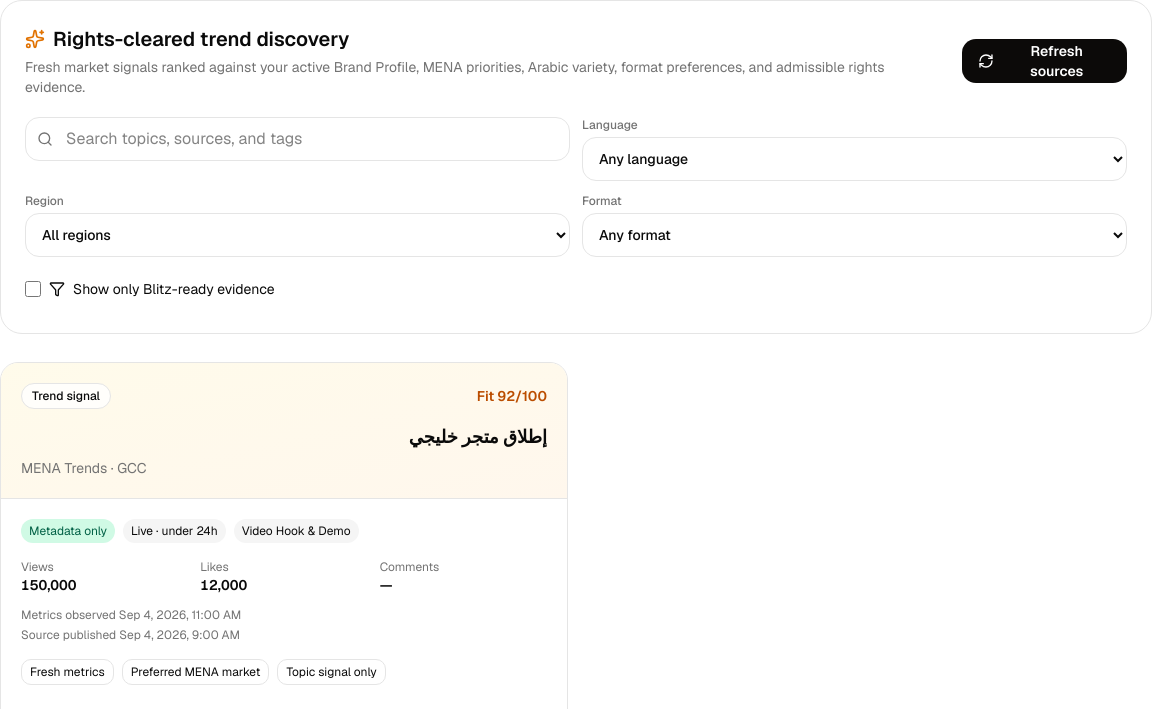
Test: Inspiration trend discovery › filters the discovery feed without mutating durable records
Type "missing" into the field with placeholder "Search topics, sources, and tags". click: (298, 139)
box: [25,117,570,161]
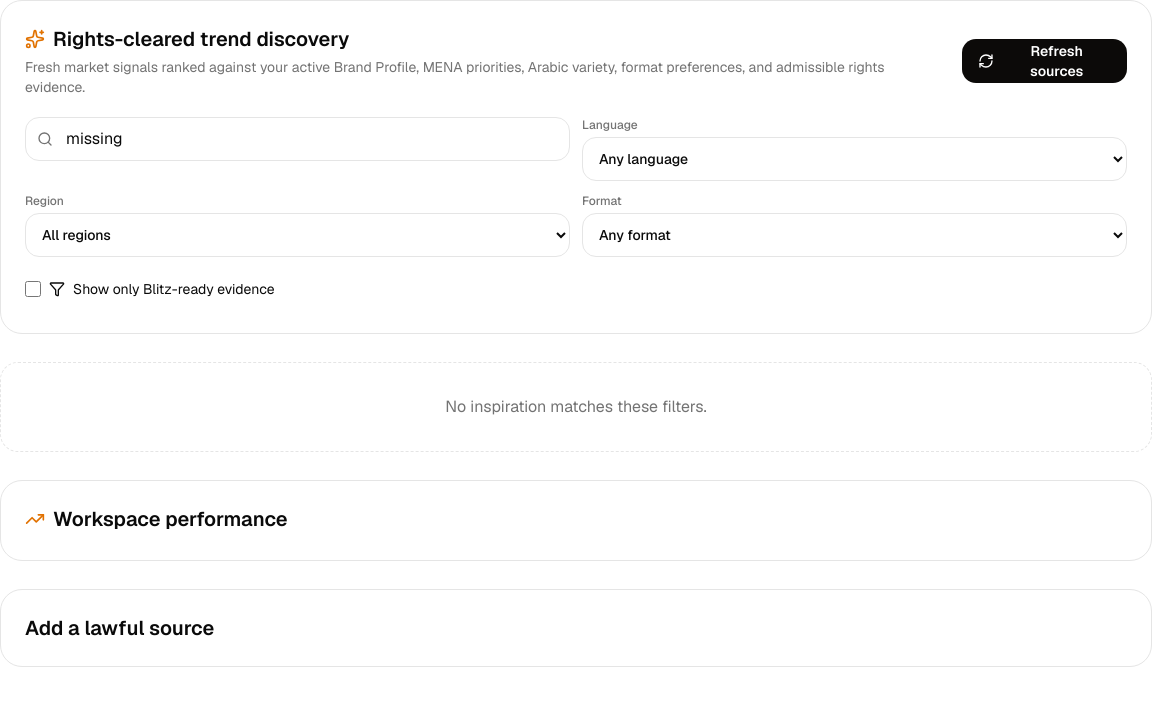
Check: the heading "إطلاق متجر خليجي" is gone
Check: the text "No inspiration matches these filters." is shown, box [0,362,1151,452]
